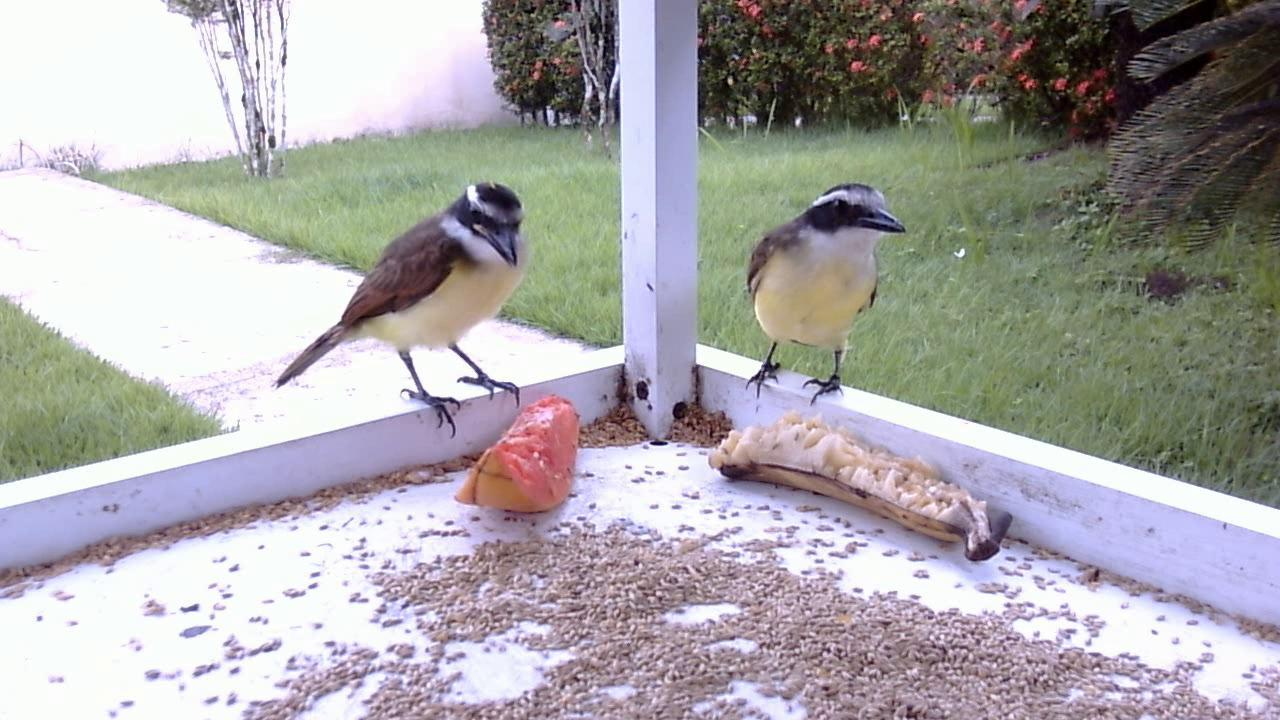bem_te_vi: (265, 172, 532, 445), (735, 180, 904, 417)
